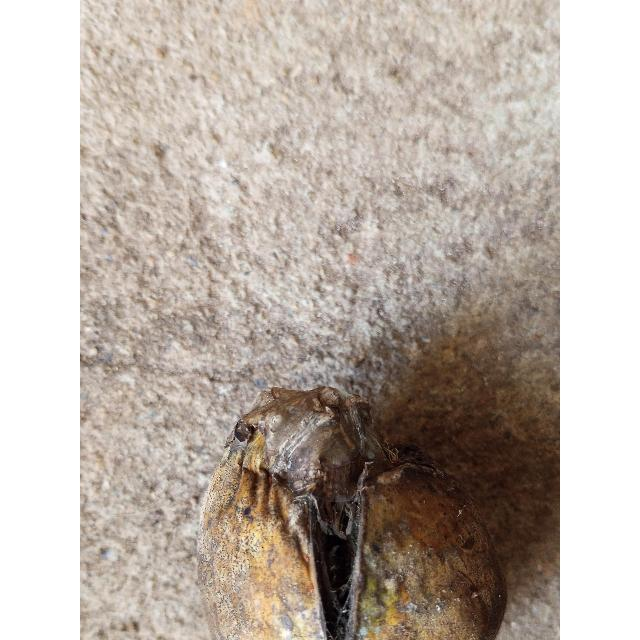damaged: (196, 393, 497, 640)
